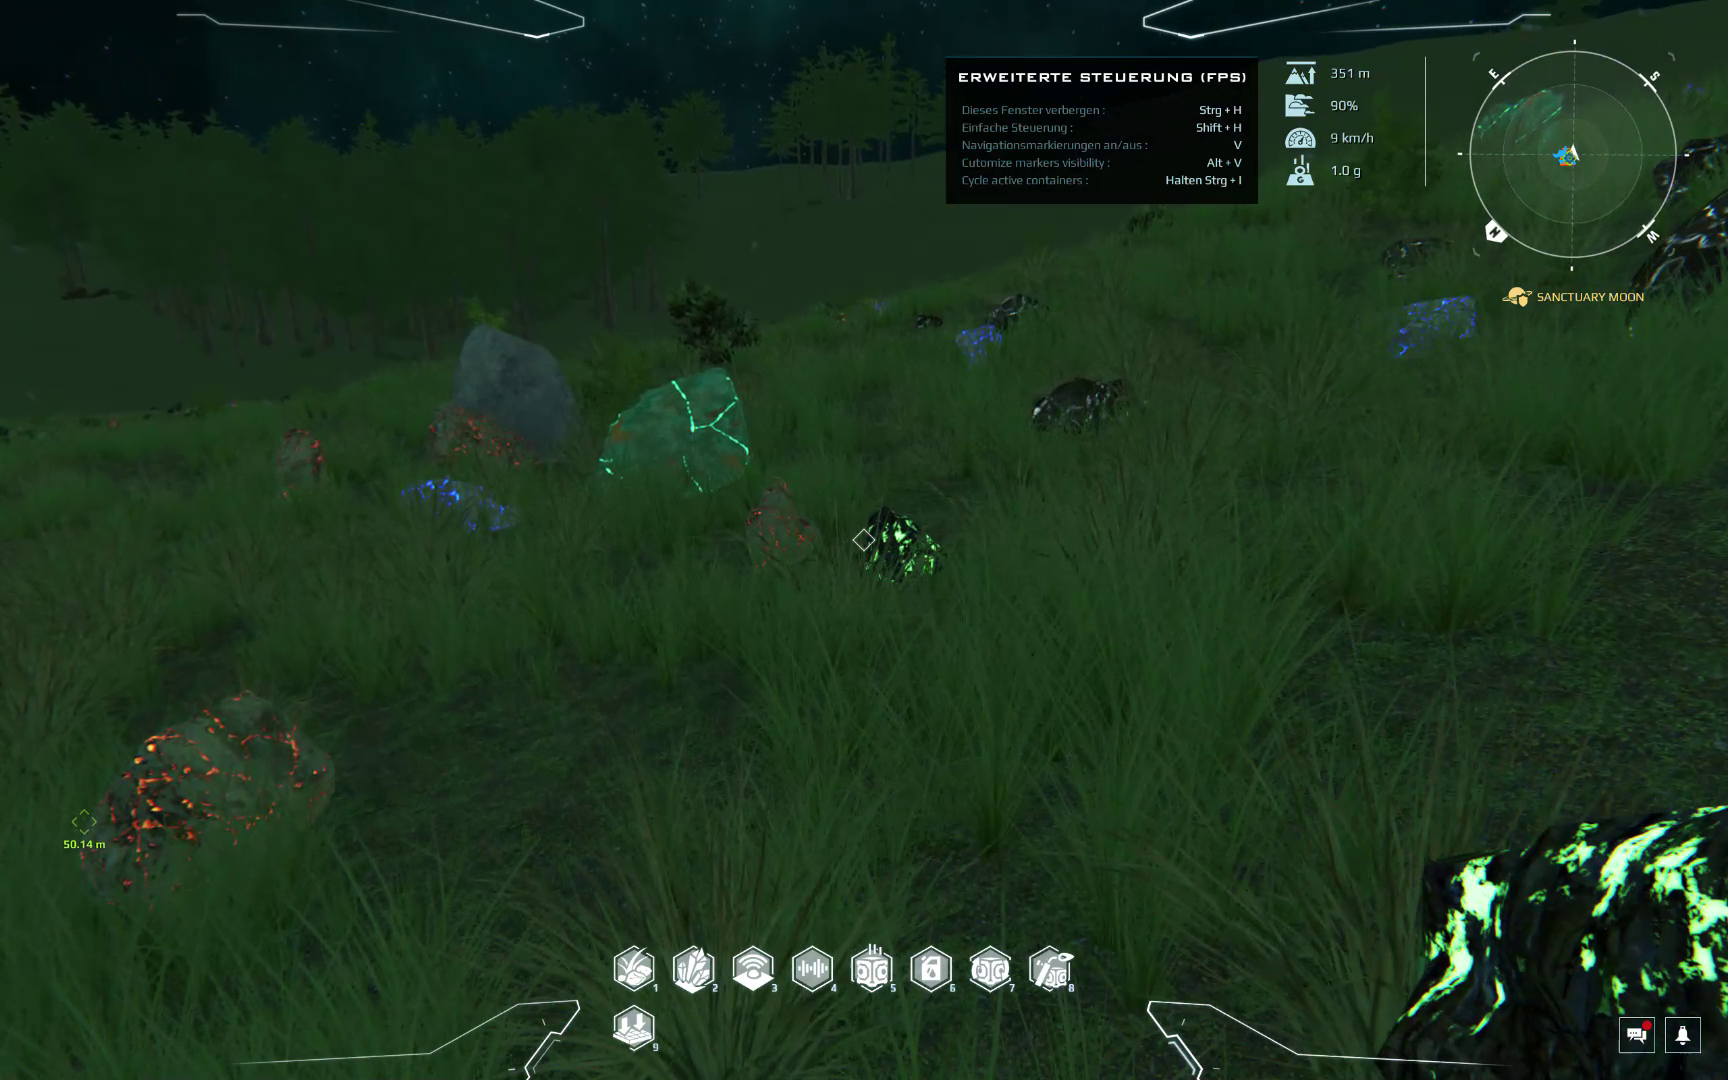Ore: (1375, 796, 1728, 1080), (63, 687, 338, 933), (593, 363, 759, 504), (1622, 190, 1728, 337), (418, 403, 542, 479), (1028, 367, 1143, 439), (740, 474, 825, 571), (852, 501, 944, 586), (393, 477, 519, 538), (1382, 295, 1479, 365), (272, 422, 338, 523), (1653, 131, 1727, 203), (1376, 233, 1452, 281), (983, 287, 1047, 328), (952, 324, 1003, 366), (909, 309, 944, 331)
